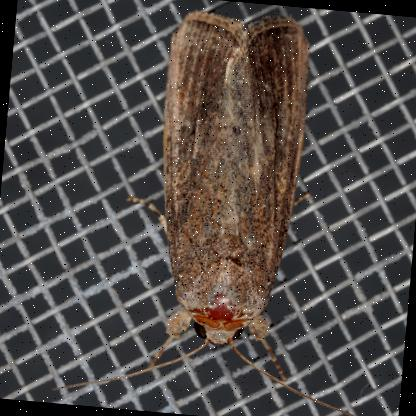Fall Armyworm Moth: (48, 0, 413, 416)
